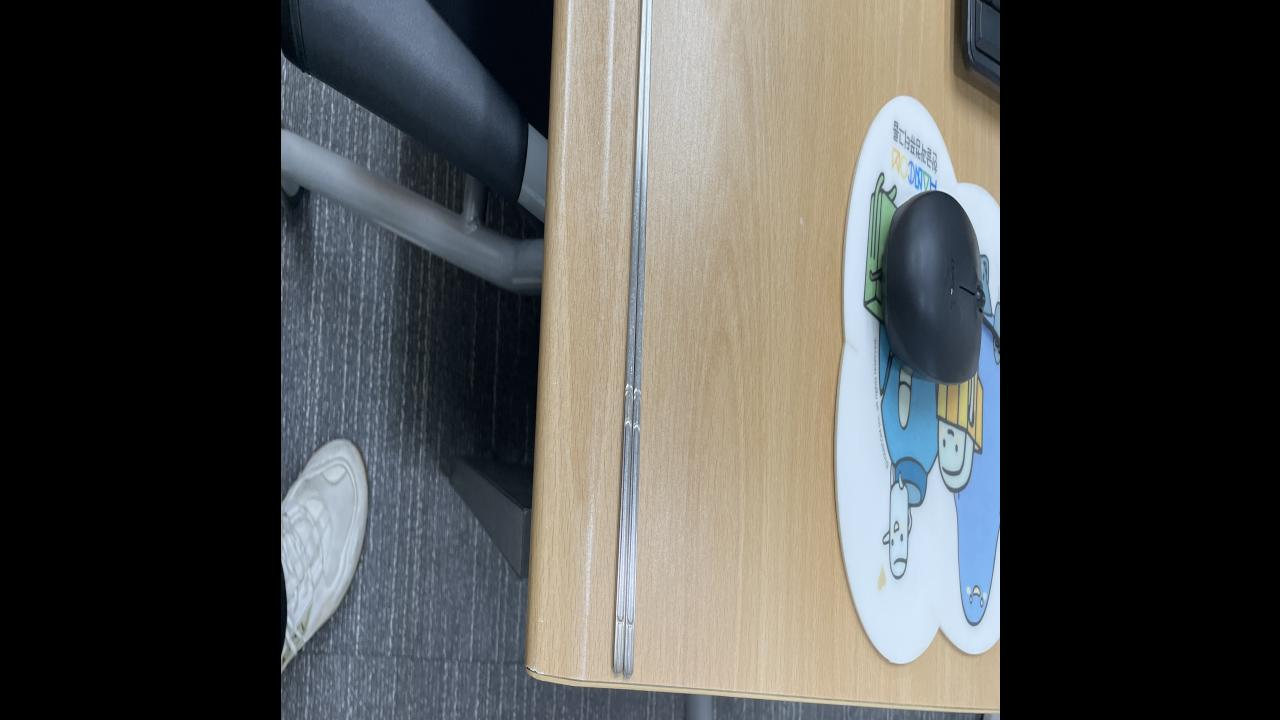chopstick: (610, 0, 653, 680)
